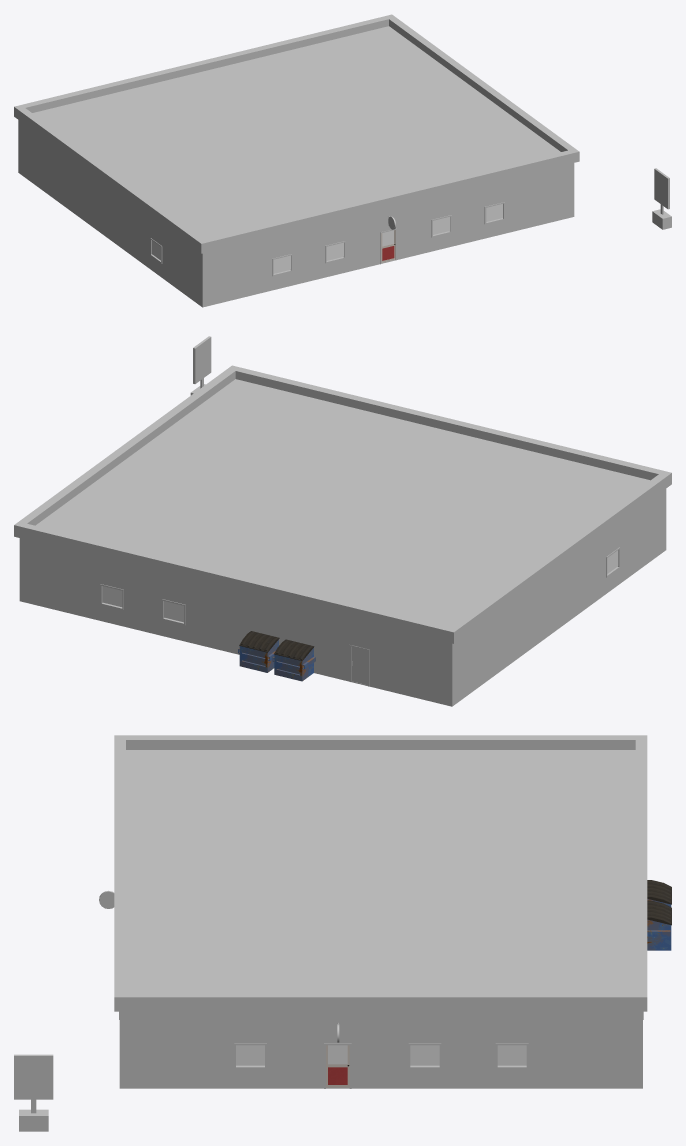
Rendered from PizzaItaliana.fbx.
3 renders of one model, top to bottom at view 1: azimuth 30°, elevation 25°; view 2: azimuth 150°, elevation 25°; view 3: azimuth 270°, elevation 25°, orthographic. The views are drawn at different scales.
Parts seen in each view (by area): view 1: BergerRoof5.002, BurgerSuper.007, anshlag, BurgerFloor; view 2: BergerRoof5.002, BurgerSuper.007, DumpsterCap1.001, DumpsterCap1.002, BurgerFloor, anshlag, SMdoor2.010; view 3: BergerRoof5.002, BurgerSuper.007, anshlag, DumpsterCap1.002, BurgerFloor, DoorsV.013, Steklo.012, Steklo.013, Steklo.011.
Part boxes in pixels (left/top/right/bottom): BergerRoof5.002: left=14, top=14, right=579, bottom=253; BurgerSuper.007: left=18, top=120, right=574, bottom=306; anshlag: left=652, top=168, right=671, bottom=229; BurgerFloor: left=18, top=172, right=574, bottom=307; BergerRoof5.002: left=14, top=365, right=671, bottom=643; BurgerSuper.007: left=19, top=489, right=666, bottom=705; DumpsterCap1.001: left=272, top=639, right=315, bottom=681; DumpsterCap1.002: left=238, top=631, right=279, bottom=672; BurgerFloor: left=19, top=549, right=666, bottom=706; anshlag: left=190, top=336, right=211, bottom=395; SMdoor2.010: left=351, top=646, right=367, bottom=684; BergerRoof5.002: left=114, top=735, right=647, bottom=1011; BurgerSuper.007: left=119, top=1011, right=643, bottom=1088; anshlag: left=14, top=1054, right=53, bottom=1131; DumpsterCap1.002: left=647, top=900, right=671, bottom=950; BurgerFloor: left=119, top=1087, right=642, bottom=1088; DoorsV.013: left=326, top=1045, right=349, bottom=1087; Steklo.012: left=410, top=1045, right=439, bottom=1065; Steklo.013: left=497, top=1045, right=526, bottom=1065; Steklo.011: left=236, top=1045, right=264, bottom=1065.
Size of the model in its own units: 3289 by 473 by 3018.
